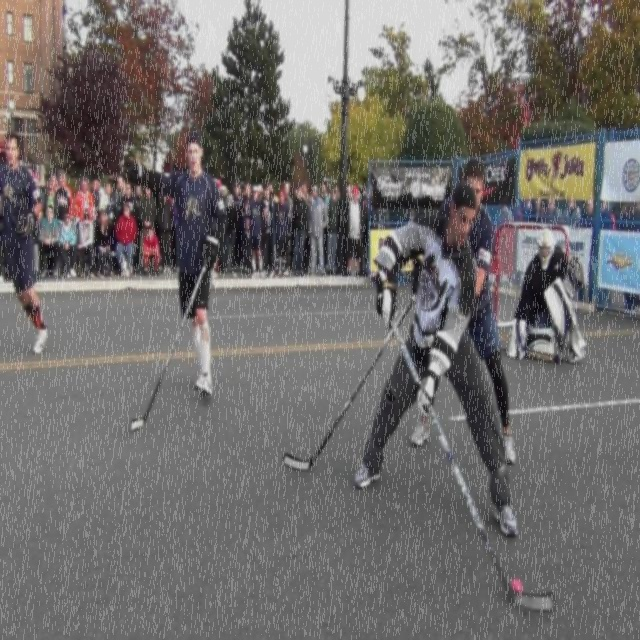pessoa: (352, 177, 520, 538), (410, 154, 520, 466), (120, 126, 230, 399), (0, 128, 50, 357), (511, 227, 569, 321), (369, 205, 417, 285), (343, 184, 366, 276), (306, 182, 328, 278), (496, 225, 526, 293), (246, 183, 266, 280), (156, 184, 176, 276), (114, 202, 138, 278), (272, 188, 292, 279), (260, 186, 279, 280), (37, 206, 60, 282), (56, 205, 78, 280), (597, 198, 640, 236), (26, 160, 58, 210), (93, 209, 114, 279), (230, 181, 246, 272), (496, 198, 548, 226), (76, 208, 96, 280), (598, 285, 640, 318), (326, 182, 340, 276), (292, 183, 306, 277), (316, 180, 330, 272), (222, 194, 238, 274), (73, 175, 97, 228), (52, 167, 74, 224), (104, 174, 128, 225), (140, 224, 162, 278), (218, 184, 231, 274), (138, 180, 156, 244), (167, 192, 179, 276), (134, 184, 145, 274), (304, 182, 314, 272), (288, 184, 298, 274), (117, 180, 138, 220), (32, 210, 44, 277), (561, 192, 581, 228), (240, 180, 247, 274), (346, 182, 352, 275), (284, 180, 294, 231), (98, 186, 110, 228), (362, 193, 368, 273), (544, 196, 562, 220), (263, 187, 271, 237), (578, 200, 596, 222), (155, 184, 162, 239), (90, 176, 100, 212), (216, 176, 230, 196), (244, 181, 254, 206), (257, 182, 268, 200), (301, 180, 309, 204), (242, 198, 250, 217), (105, 180, 113, 195), (96, 177, 102, 190)
